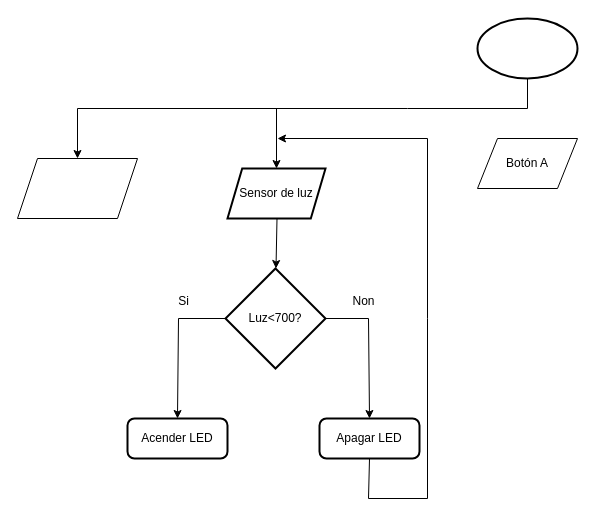
Image size: 596x524. Some labels were removed from this diagram. Here are the shapes that lost their labels. From the top down, the centre of each, then its label:
At (527,48): "Inicio".
At (77,188): "Sensor temperatura".
